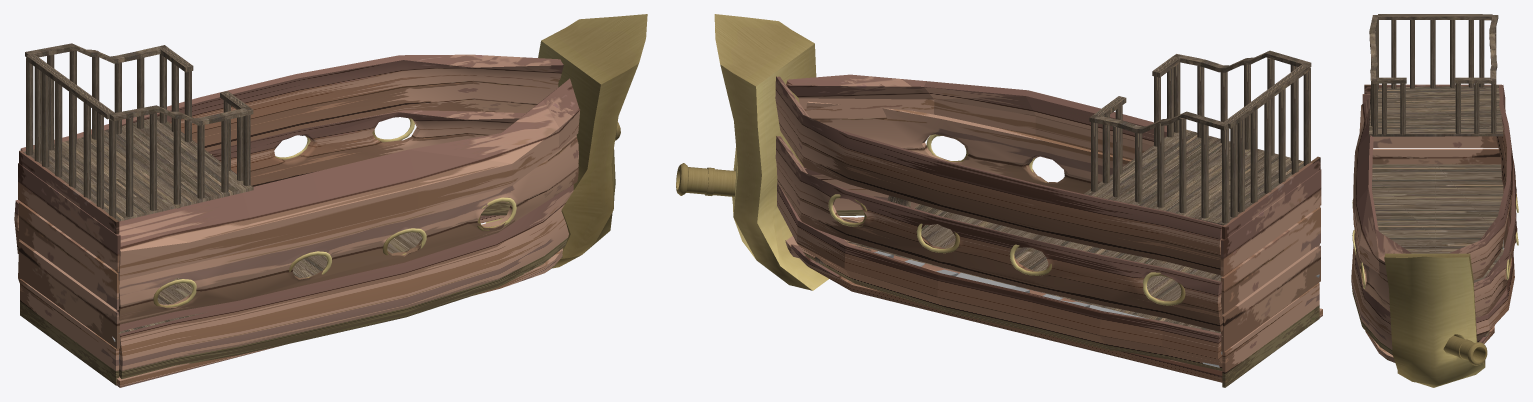
Rendered from boat 2.fbx.
3 views of the same model, side by side, from view 1: azimuth 30°, elevation 25°; view 2: azimuth 150°, elevation 25°; view 3: azimuth 270°, elevation 25° (orthographic). The views are drawn at different scales.
Visible parts, largest first — view 1: pPlane17, pPlane21 (×2), pPlane15, pPlane9, pCube1, pPlane18, pCube3, pCube4, pCube5, pCube2, pPlane19, pCube6 (+19 smaller); view 2: pPlane21 (×2), pPlane9, pPlane7, pCube1, pPlane17, pPlane18, pPlane19, pCube3, pCube4, pCube5, pCube2, pPlane20 (+19 smaller); view 3: pCube1, pPlane19, pPlane18, pPlane17, pPlane21 (×2), pPlane9, pCube3, pPlane15, pCube4, pPlane7, cannon:pCylinder1, pCube30 (+18 smaller).
Part boxes in pixels (x1=…): pPlane17: x1=116, y1=78, x2=579, y2=280; pPlane21 (×2): x1=14, y1=110, x2=578, y2=324; pPlane15: x1=119, y1=184, x2=573, y2=378; pPlane9: x1=20, y1=54, x2=563, y2=151; pCube1: x1=486, y1=14, x2=647, y2=268; pPlane18: x1=23, y1=116, x2=253, y2=221; pCube3: x1=18, y1=240, x2=119, y2=349; pCube4: x1=18, y1=201, x2=119, y2=310; pCube5: x1=18, y1=163, x2=120, y2=272; pCube2: x1=20, y1=279, x2=118, y2=385; pPlane19: x1=118, y1=232, x2=422, y2=333; pCube6: x1=19, y1=150, x2=119, y2=234; pPlane21 (×2): x1=775, y1=101, x2=1319, y2=331; pPlane9: x1=775, y1=76, x2=1223, y2=275; pPlane7: x1=777, y1=182, x2=1222, y2=370; pCube1: x1=714, y1=14, x2=828, y2=290; pPlane17: x1=786, y1=74, x2=1320, y2=208; pPlane18: x1=1084, y1=129, x2=1304, y2=225; pPlane19: x1=847, y1=204, x2=1223, y2=336; pCube3: x1=1221, y1=245, x2=1320, y2=351; pCube4: x1=1221, y1=207, x2=1320, y2=313; pCube5: x1=1220, y1=169, x2=1321, y2=276; pCube2: x1=1222, y1=283, x2=1319, y2=387; pPlane20: x1=791, y1=244, x2=1222, y2=382; pCube1: x1=1384, y1=253, x2=1485, y2=387; pPlane19: x1=1372, y1=164, x2=1503, y2=282; pPlane18: x1=1369, y1=85, x2=1503, y2=136; pPlane17: x1=1353, y1=97, x2=1411, y2=279; pPlane21 (×2): x1=1355, y1=130, x2=1517, y2=317; pPlane9: x1=1449, y1=85, x2=1513, y2=280; pCube3: x1=1372, y1=148, x2=1501, y2=164; pPlane15: x1=1351, y1=234, x2=1392, y2=355; pCube4: x1=1373, y1=136, x2=1498, y2=147; pPlane7: x1=1476, y1=186, x2=1514, y2=342; cannon:pCylinder1: x1=1443, y1=335, x2=1487, y2=365; pCube30: x1=1378, y1=14, x2=1492, y2=20.
Size of the model in its own units: 26.76 by 12.7 by 9.46.
